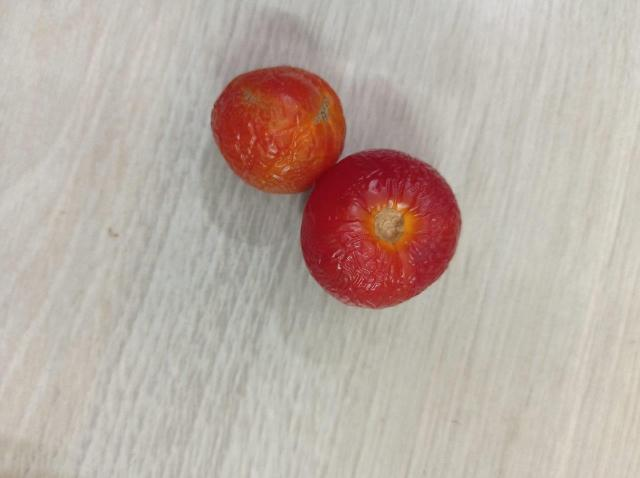defect: (208, 64, 350, 194)
